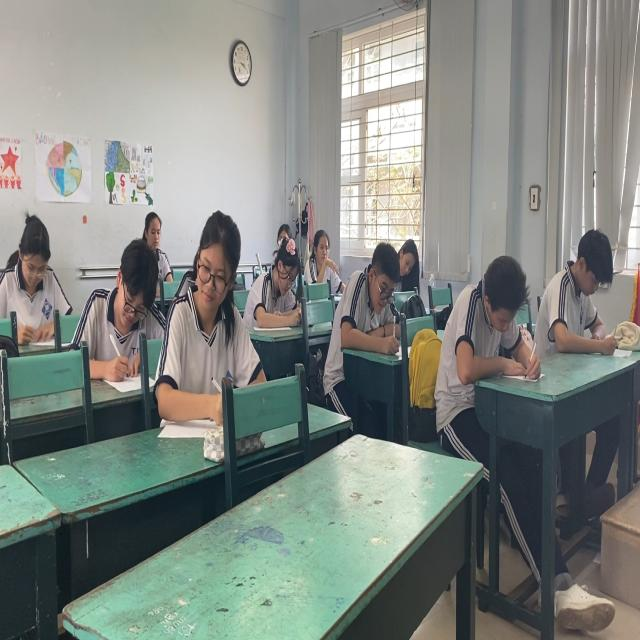cheating: (169, 215, 249, 413)
not_cheating: (84, 230, 169, 371), (447, 261, 543, 378), (540, 223, 624, 354), (0, 195, 70, 344), (331, 240, 403, 344), (255, 240, 306, 323), (302, 226, 342, 285), (388, 236, 422, 284), (140, 198, 166, 257)
